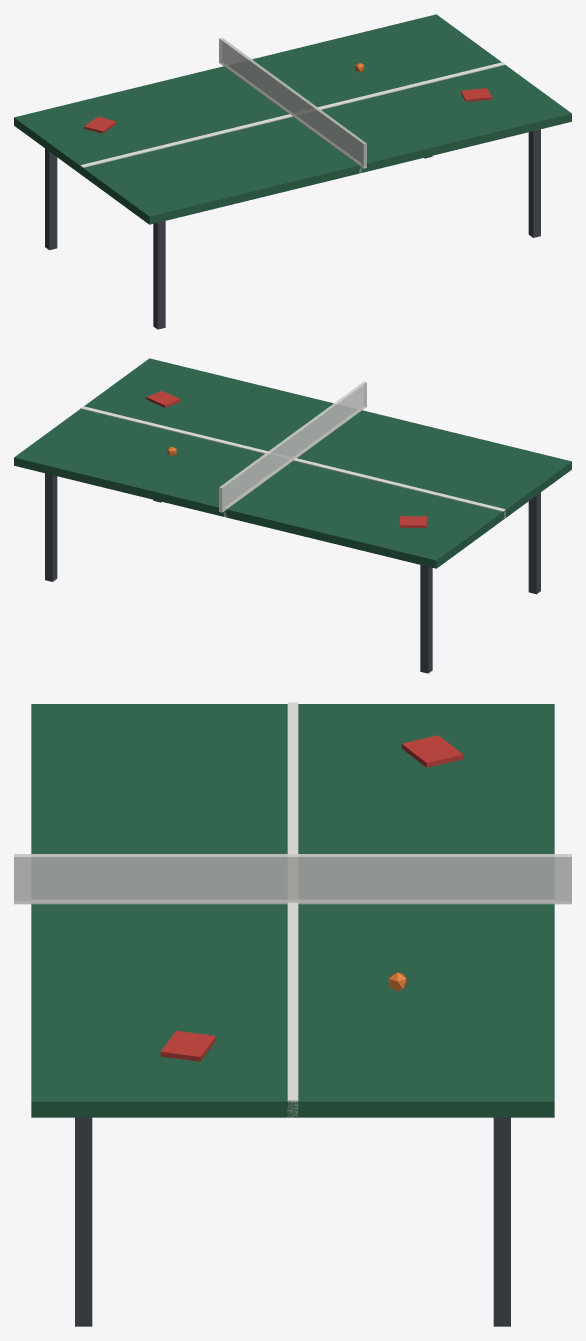
File: pingpong_table.glb
3 views of the same model, one above another, from view 1: azimuth 30°, elevation 25°; view 2: azimuth 150°, elevation 25°; view 3: azimuth 270°, elevation 25° (orthographic). The views are drawn at different scales.
Visible parts, largest first — view 1: pingpong_table_mesh; view 2: pingpong_table_mesh; view 3: pingpong_table_mesh.
Boxes of the visible parts, x1,y1,x2,y2 form: pingpong_table_mesh: [14, 14, 571, 329]; pingpong_table_mesh: [14, 358, 571, 673]; pingpong_table_mesh: [14, 702, 571, 1326].
Size of the model in its own units: 2.7 by 0.92 by 1.6.
